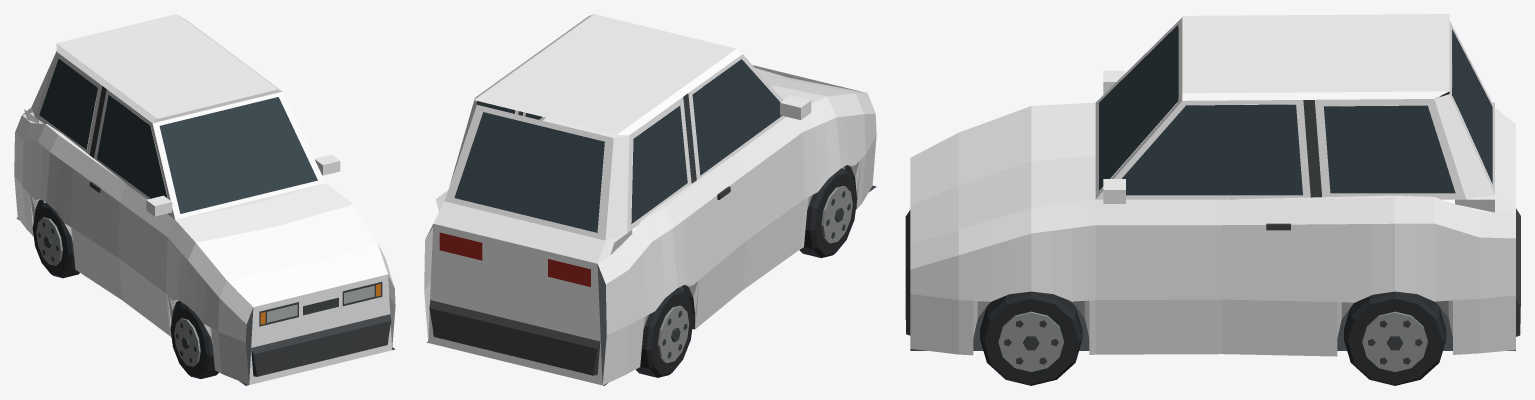
File: tomoe_kogarashi_s.glb
3 views of the same model, side by side, from view 1: azimuth 30°, elevation 25°; view 2: azimuth 150°, elevation 25°; view 3: azimuth 270°, elevation 25° (orthographic). The views are drawn at different scales.
Visible parts, largest first — view 1: tomoe_kogarashi_s; view 2: tomoe_kogarashi_s; view 3: tomoe_kogarashi_s.
Boxes of the visible parts, bbox=[...] form: tomoe_kogarashi_s: bbox=[14, 14, 395, 385]; tomoe_kogarashi_s: bbox=[424, 14, 876, 385]; tomoe_kogarashi_s: bbox=[905, 14, 1520, 385].
Size of the model in its own units: 1.48 by 1.62 by 3.23.
Materials: 8 (1 with a texture image).
